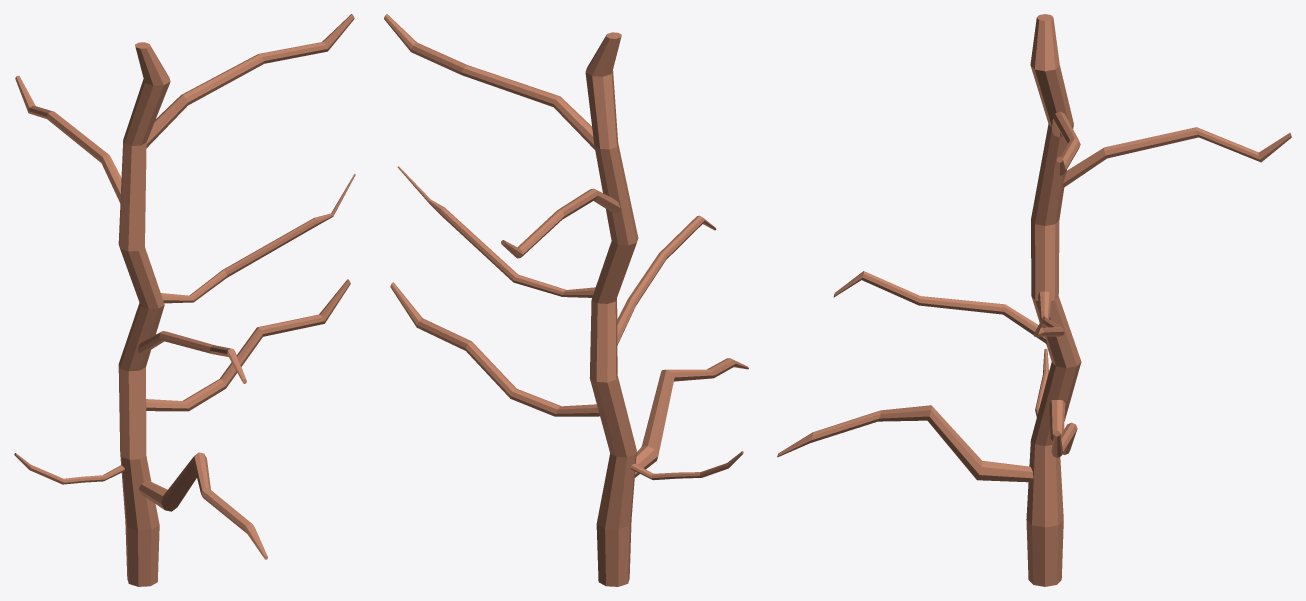
Rendered from DeadBush.fbx.
The picture shows the model from 3 angles, left to right: view 1: azimuth 30°, elevation 25°; view 2: azimuth 150°, elevation 25°; view 3: azimuth 270°, elevation 25°; orthographic projection. The views are drawn at different scales.
Parts seen in each view (by area): view 1: Cylinder; view 2: Cylinder; view 3: Cylinder.
Boxes of the visible parts, x1=… form: Cylinder: x1=14, y1=14, x2=355, y2=586; Cylinder: x1=384, y1=14, x2=748, y2=586; Cylinder: x1=777, y1=14, x2=1291, y2=586.
Bounding box in the file's own units: 81.76 × 121 × 100.
